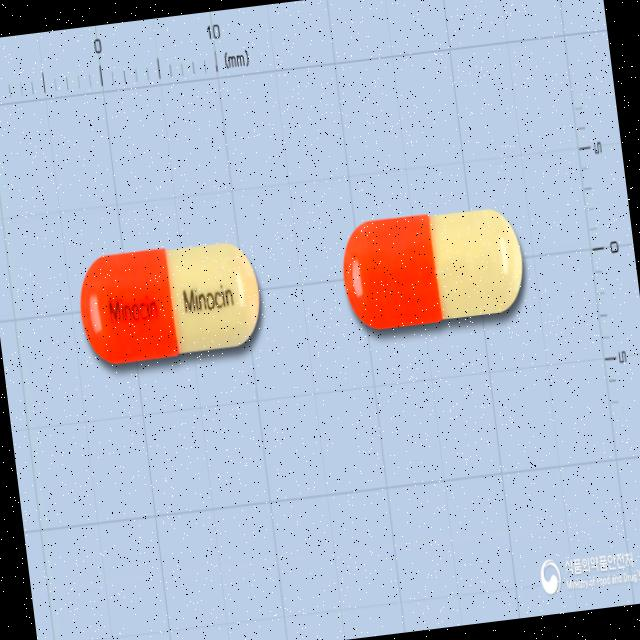Minocin Cap: (335, 199, 531, 334), (73, 234, 266, 368)
